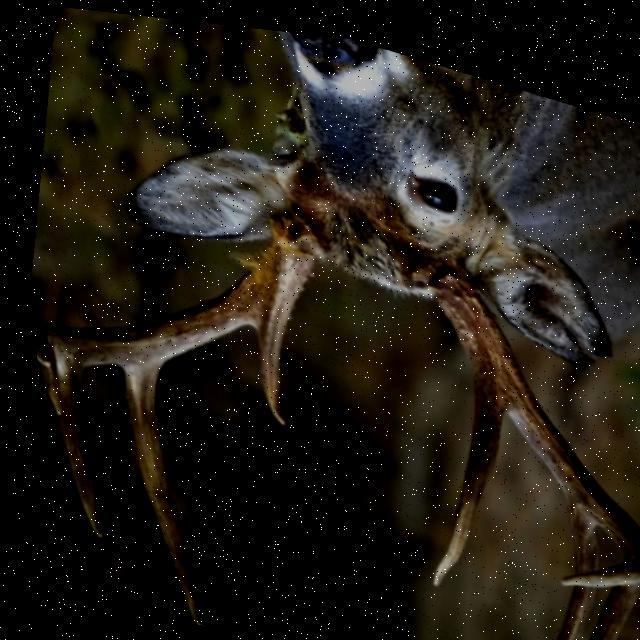L-F: (406, 239, 640, 575)
L-G1: (421, 370, 498, 579)
R-F: (26, 214, 316, 367)
R-G1: (247, 316, 281, 422)
R-G2: (114, 363, 190, 623)
R-G3: (48, 351, 91, 538)
